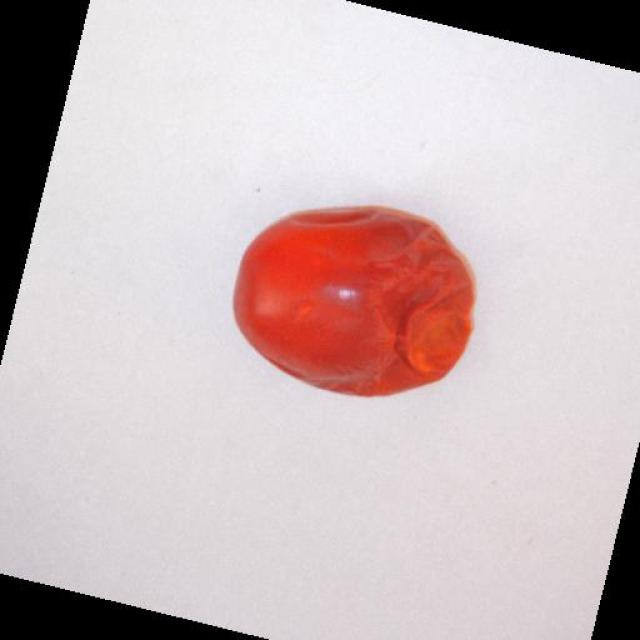Stale_tomato: (221, 190, 499, 410)
